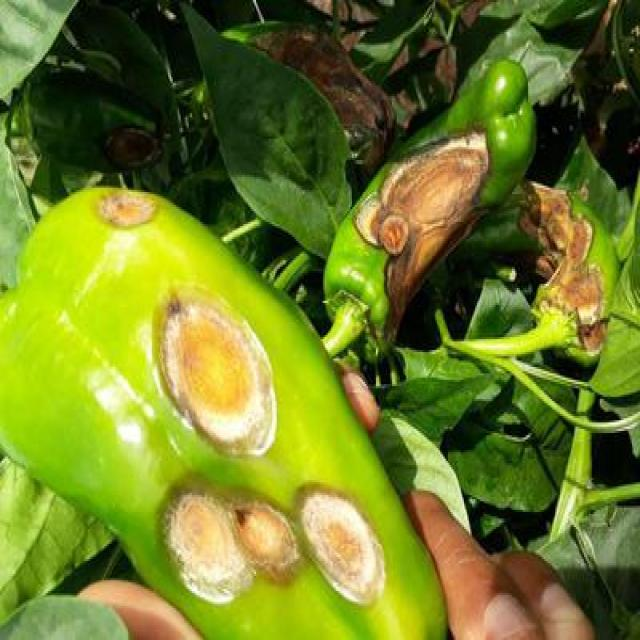Chili_anthracnose: (162, 491, 385, 614), (154, 260, 274, 482), (350, 130, 477, 315), (518, 156, 610, 352), (106, 160, 170, 250)
